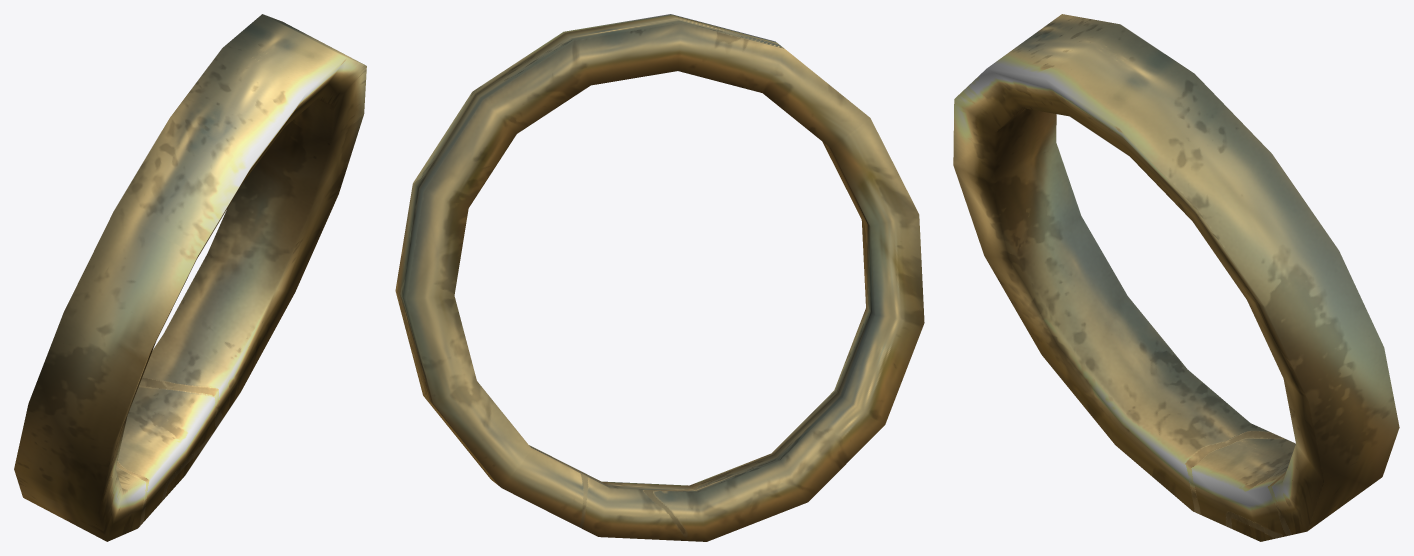
File: sm_human_accessories_04.gltf
3 renders of one model, left to right at view 1: azimuth 30°, elevation 25°; view 2: azimuth 150°, elevation 25°; view 3: azimuth 270°, elevation 25°, orthographic. The views are drawn at different scales.
Visible parts, largest first — view 1: sm_human_accessories_04; view 2: sm_human_accessories_04; view 3: sm_human_accessories_04.
Part boxes in pixels (<box>): sm_human_accessories_04: <box>14,14,366,541</box>; sm_human_accessories_04: <box>395,14,924,541</box>; sm_human_accessories_04: <box>953,14,1399,541</box>.
Size of the model in its own units: 2.21 by 2.4 by 1.9.
1 material, 1 textured.
